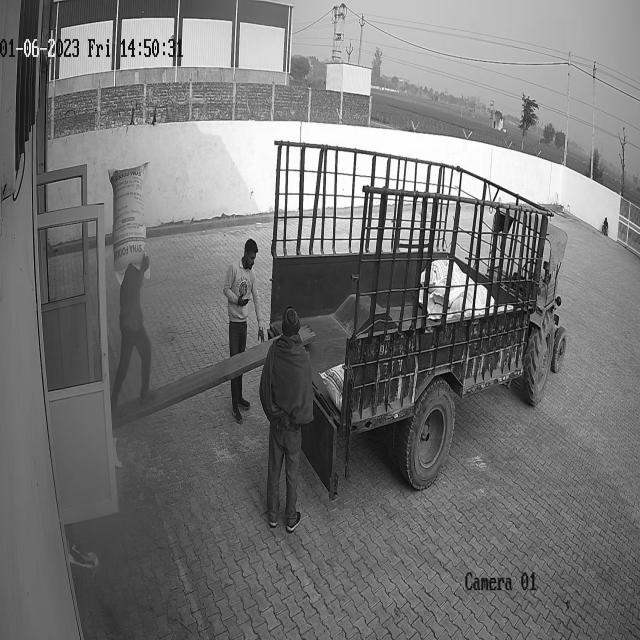sack: (108, 162, 149, 282)
